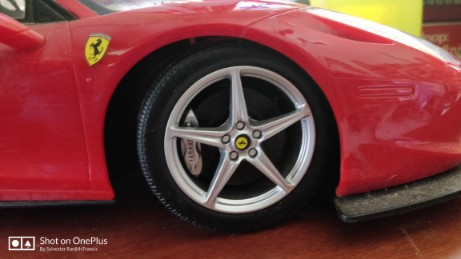unaligned_wheel: (113, 37, 337, 234)
